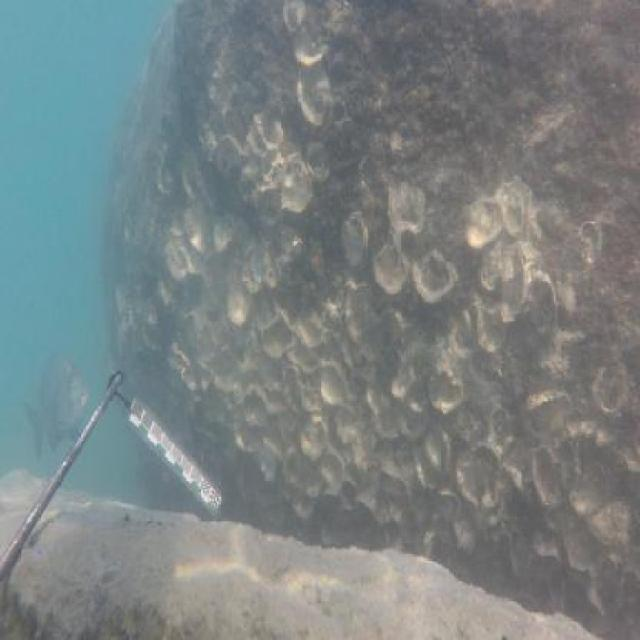acanthopagrus_palmaris: (24, 356, 88, 452)
